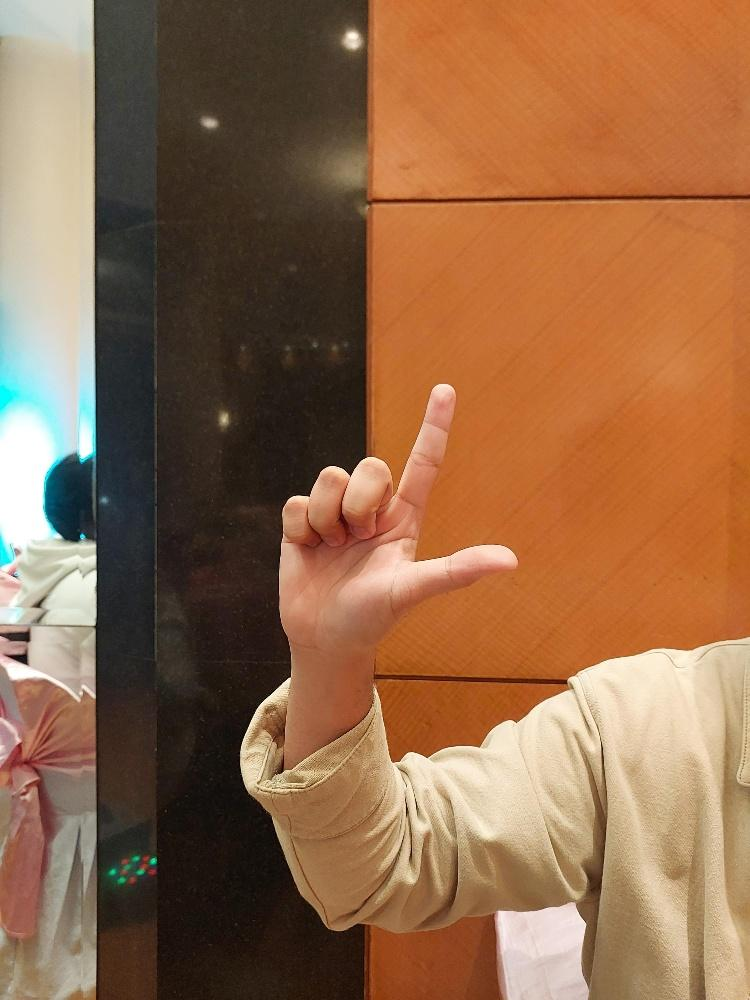l: (276, 381, 520, 644)
